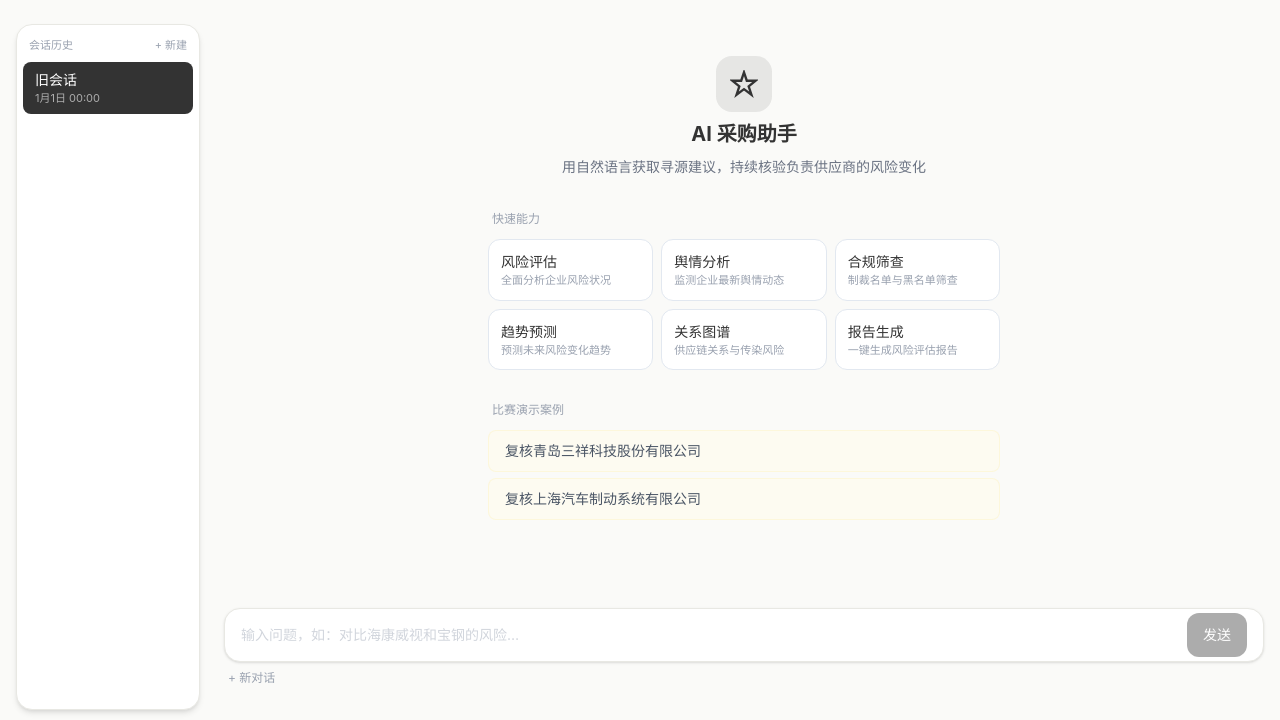
Test: ChatView session lifecycle › does not repeat streamed text when the structured final answer arrives
Type "分析华东钢材供应有限公司" into the field named "向 AI 采购助手提问".
click(710, 635); type("分析华东钢材供应有限公司")  # box [241, 615, 1179, 655]
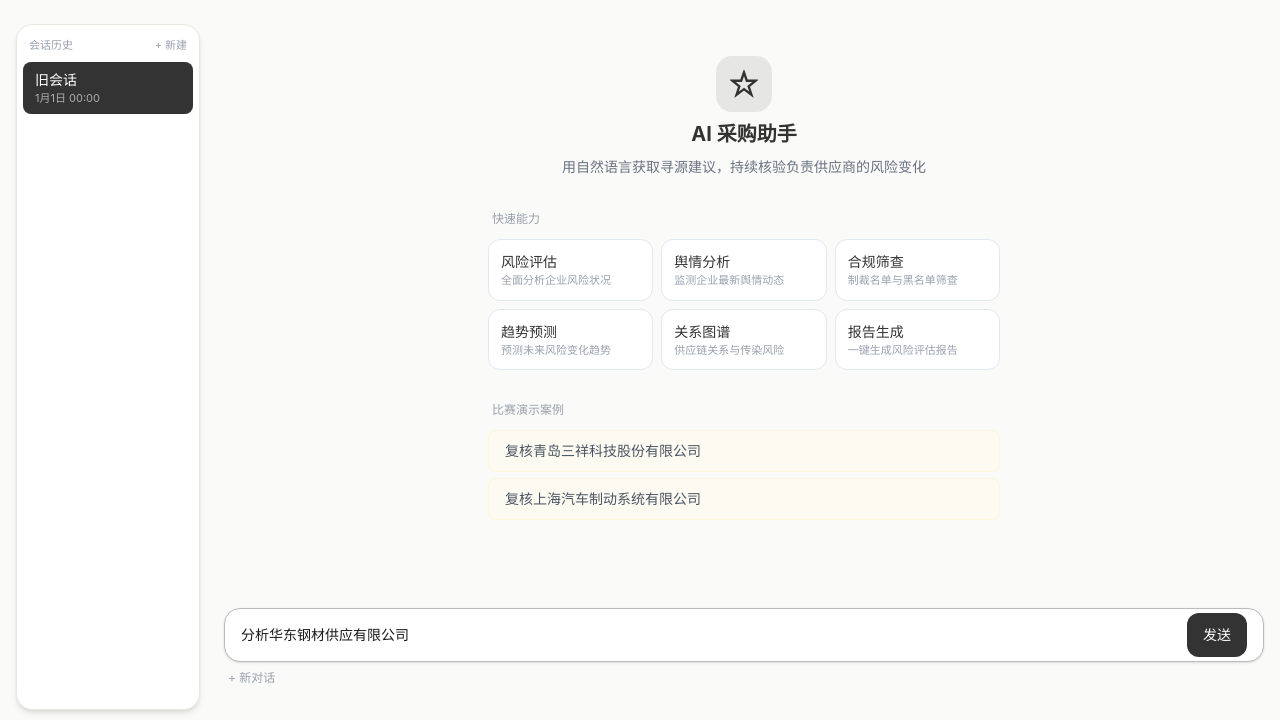
Click the button "发送".
click(1217, 635)  # box [1187, 613, 1247, 657]
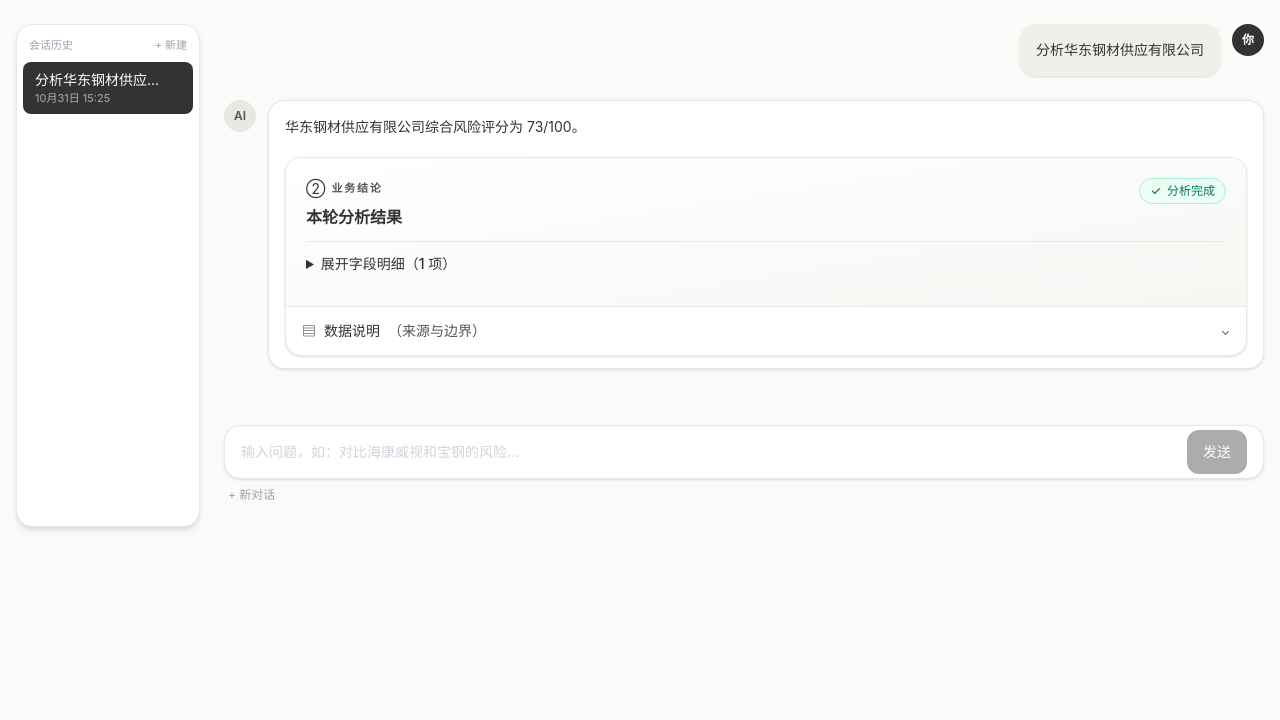
Result: the text "华东钢材供应有限公司综合风险评分为 73/100。" is shown once at [285, 118, 586, 135]
